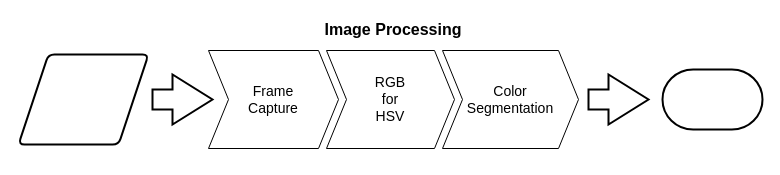
The diagram is 780 pixels wide and 175 high, and some of its shapes have lost their labels. Here are the shapes that lost their labels. From the top down, the box of each, then its label:
(17, 53, 149, 145): Camera
(661, 68, 763, 130): Tracked Target
